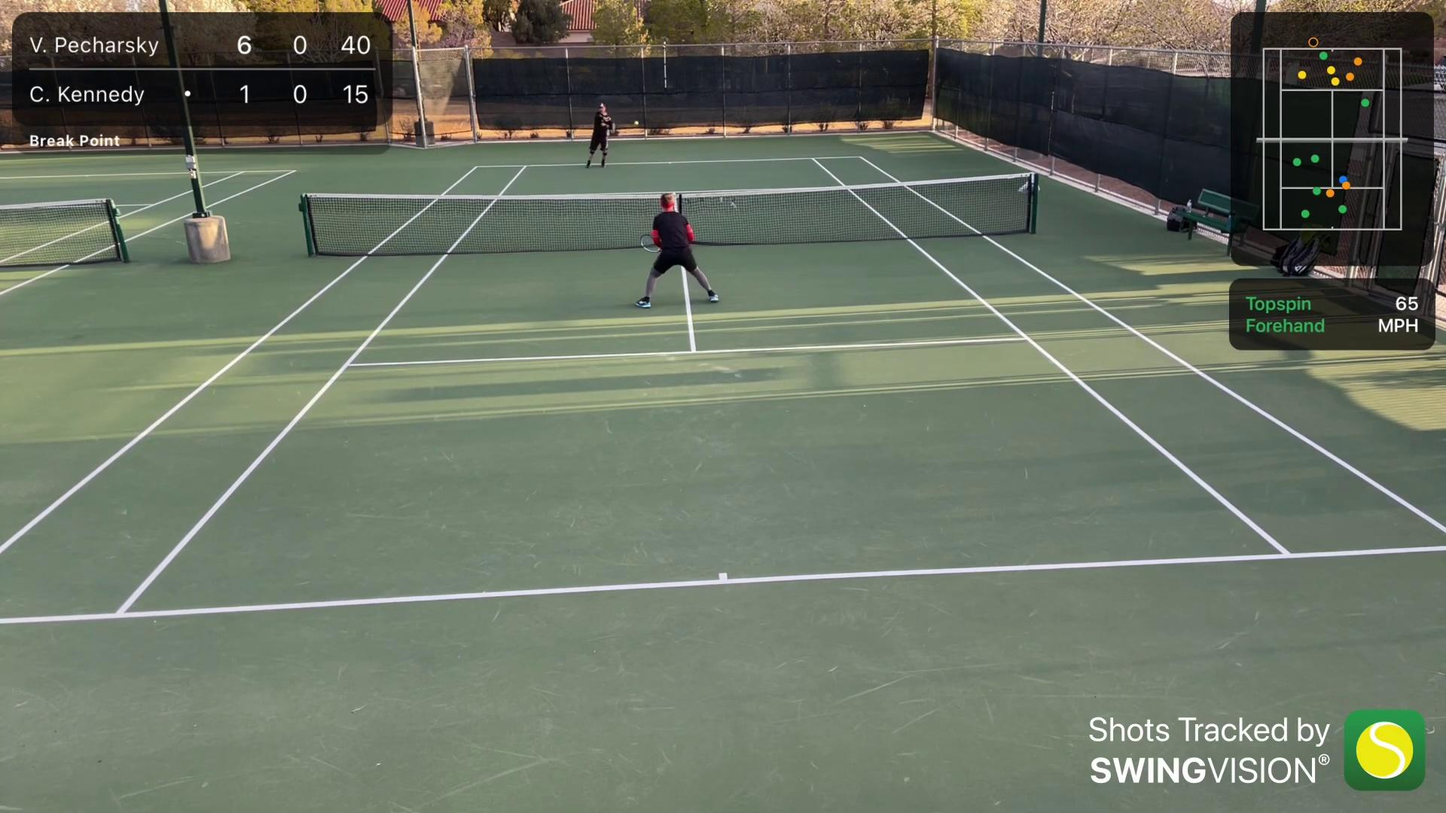ball: (634, 120, 641, 127)
